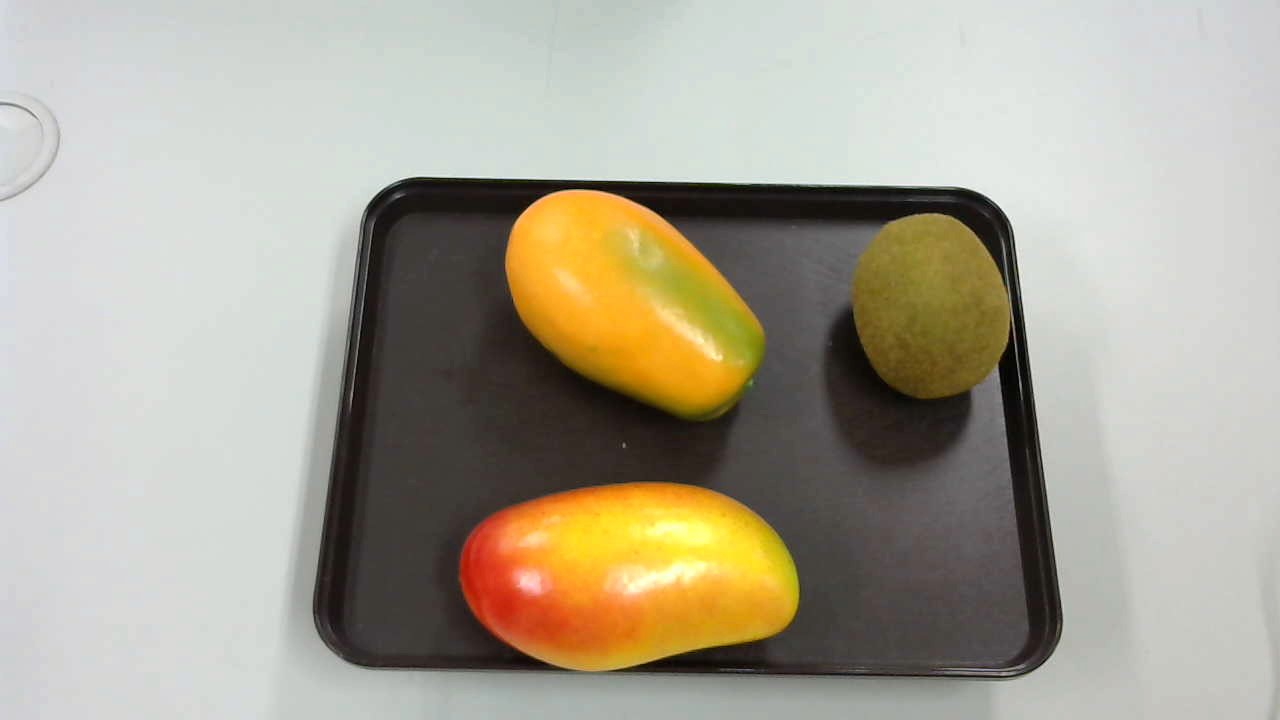kiwi fruit: (842, 203, 1011, 413)
papya: (499, 180, 769, 426)
red mango: (455, 484, 804, 678)
